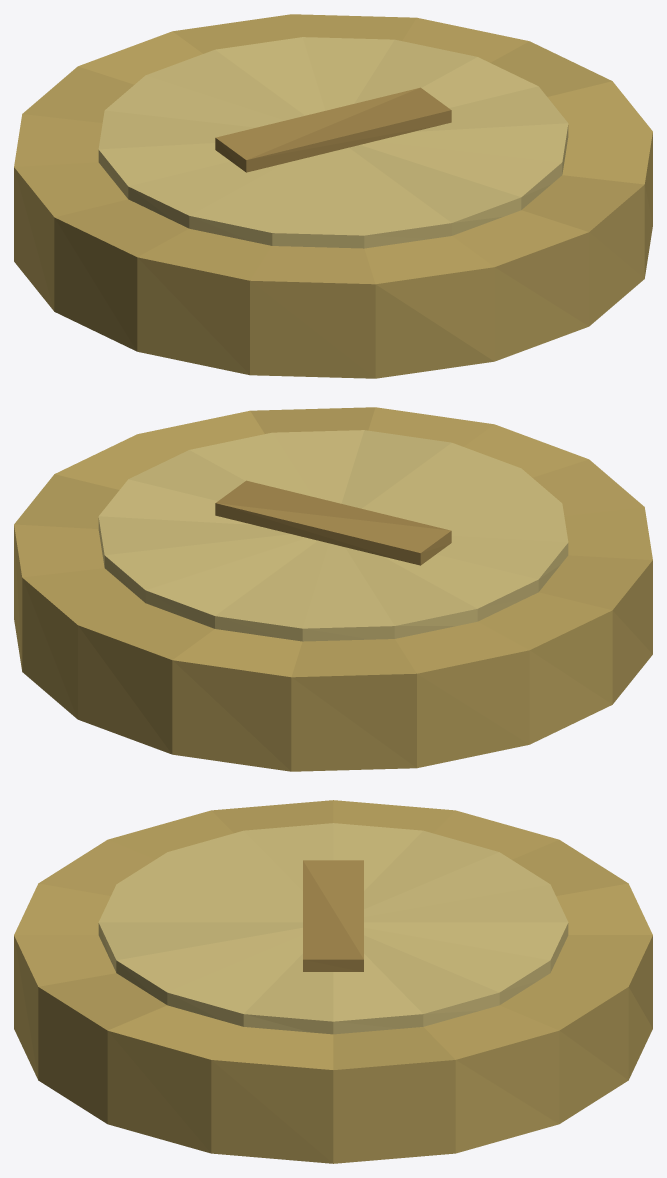
File: coin.glb
The picture shows the model from 3 angles, top to bottom: view 1: azimuth 30°, elevation 25°; view 2: azimuth 150°, elevation 25°; view 3: azimuth 270°, elevation 25°; orthographic projection.
Parts seen in each view (by area): view 1: coin_body, coin_face, mark; view 2: coin_body, coin_face, mark; view 3: coin_body, coin_face, mark.
Boxes of the visible parts, x1,y1,x2,y2 form: coin_body: [14, 14, 652, 378]; coin_face: [98, 37, 568, 248]; mark: [215, 87, 451, 172]; coin_body: [14, 407, 652, 771]; coin_face: [98, 430, 568, 641]; mark: [215, 480, 451, 565]; coin_body: [14, 800, 652, 1163]; coin_face: [98, 823, 568, 1034]; mark: [303, 860, 363, 971].
Size of the model in its own units: 0.68 by 0.1395 by 0.68.
